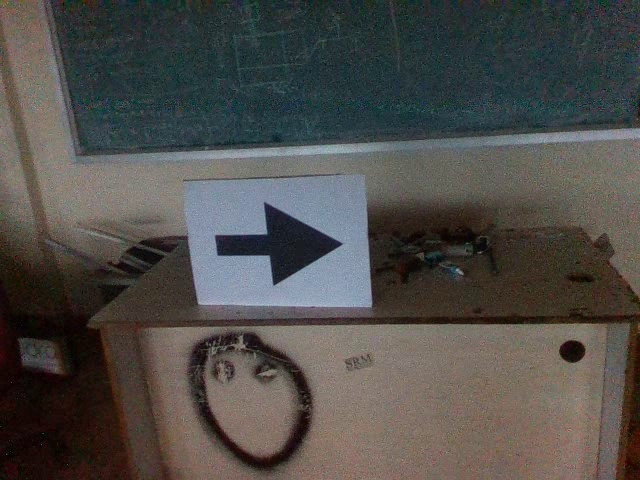Right: (204, 196, 348, 288)
